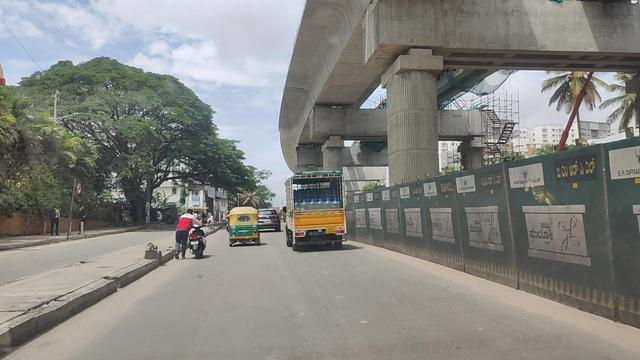HMV: (285, 172, 342, 253)
LMV: (228, 206, 260, 246)
